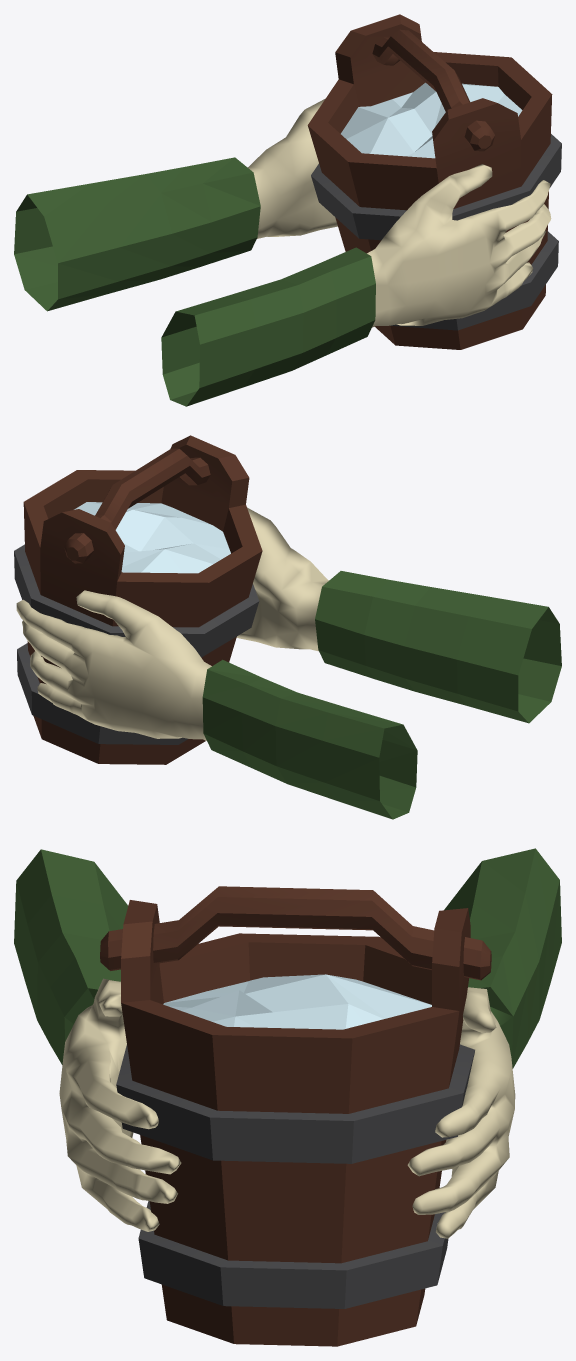
The model's file is EquipedBucketSnow.fbx.
The picture shows the model from 3 angles, top to bottom: view 1: azimuth 30°, elevation 25°; view 2: azimuth 150°, elevation 25°; view 3: azimuth 270°, elevation 25°; orthographic projection. The views are drawn at different scales.
Parts seen in each view (by area): view 1: EquipedEmptyBucketSnow; view 2: EquipedEmptyBucketSnow; view 3: EquipedEmptyBucketSnow.
Boxes of the visible parts, x1,y1,x2,y2 form: EquipedEmptyBucketSnow: (14, 14, 561, 406); EquipedEmptyBucketSnow: (14, 435, 561, 819); EquipedEmptyBucketSnow: (14, 848, 561, 1346).
Bounding box in the file's own units: 1.9 × 1.14 × 1.38.
